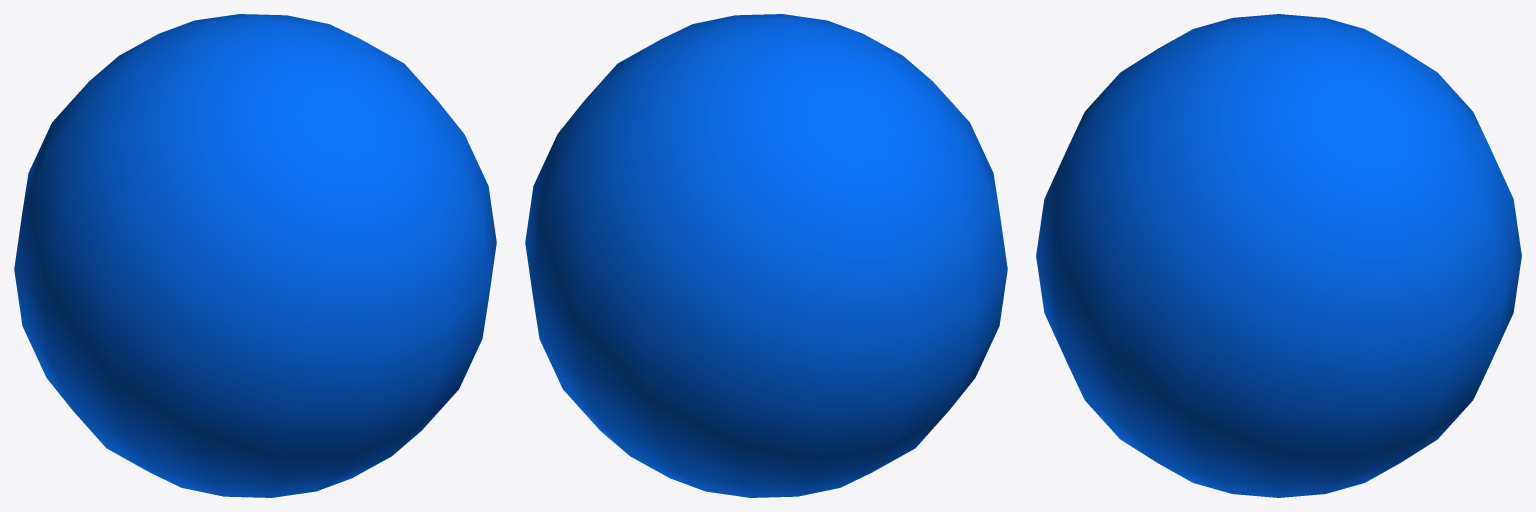
File: candy_011.glb
3 renders of one model, left to right at view 1: azimuth 30°, elevation 25°; view 2: azimuth 150°, elevation 25°; view 3: azimuth 270°, elevation 25°, orthographic.
Parts seen in each view (by area): view 1: candy_011; view 2: candy_011; view 3: candy_011.
Part boxes in pixels (bbox=[...]): candy_011: bbox=[14, 14, 496, 497]; candy_011: bbox=[525, 14, 1007, 497]; candy_011: bbox=[1036, 14, 1521, 497].
Bounding box in the file's own units: 1.22 × 1.22 × 1.22.
1 material, 1 textured.
